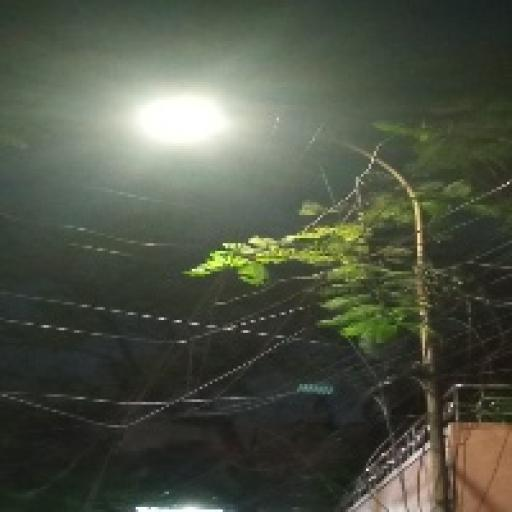Working: (129, 84, 246, 158)
